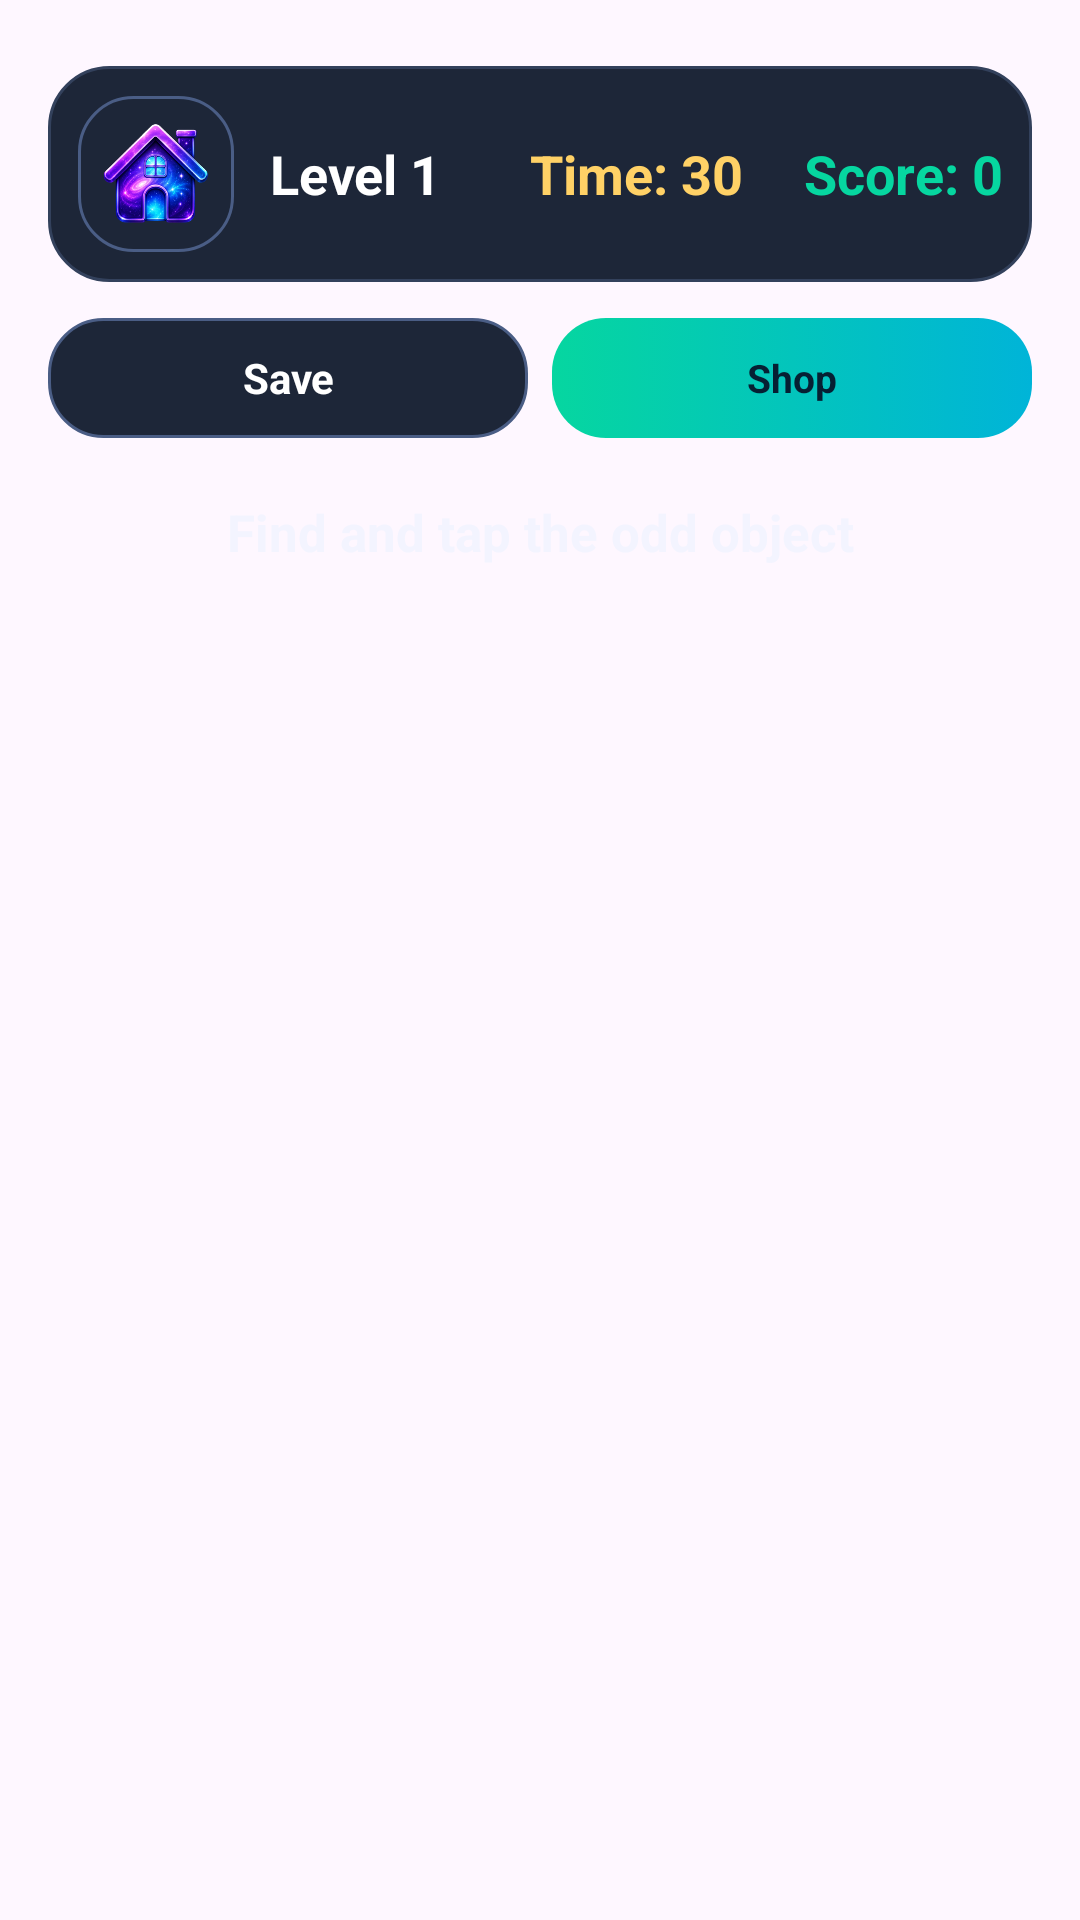

Locate icon controls on the screen. Image size 1080*1920, boxes as BBox(x1, y1, x2, y2).
Home: BBox(78, 96, 234, 252)
